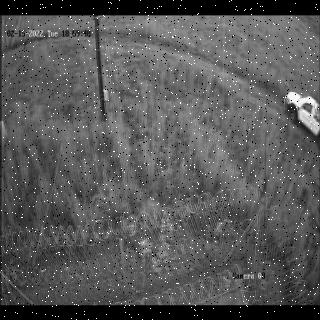car: (283, 90, 320, 135)
